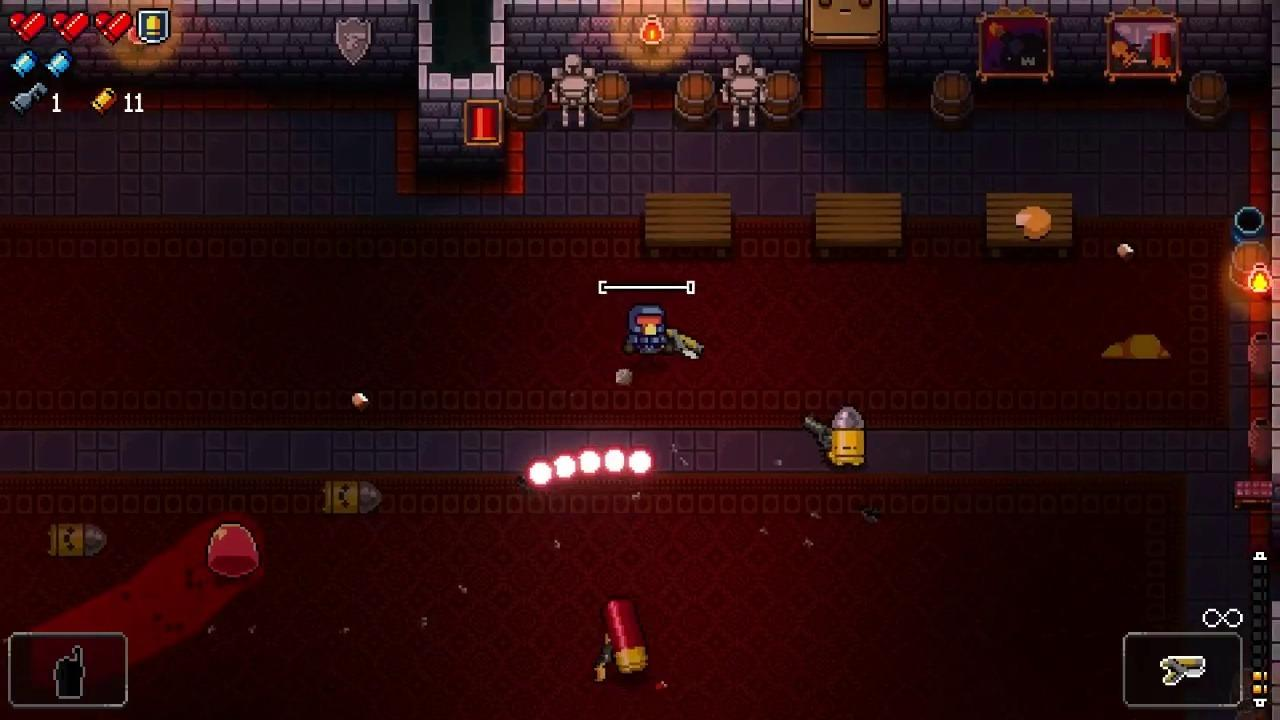blobulon_l: (207, 522, 261, 579)
bullet: (549, 452, 579, 483), (573, 449, 604, 479), (600, 448, 630, 477), (628, 445, 656, 476), (526, 459, 554, 488)
bullet_kin: (828, 406, 866, 465)
dead_apprentice_gunjurer: (1103, 332, 1171, 360)
dead_bullet_kin: (46, 523, 109, 558), (318, 481, 380, 515)
locked_door: (804, 0, 887, 50)
player: (629, 308, 667, 353)
red_shotgun_kin: (601, 599, 649, 675)
table: (986, 193, 1071, 261), (645, 192, 732, 258), (817, 194, 901, 258)
